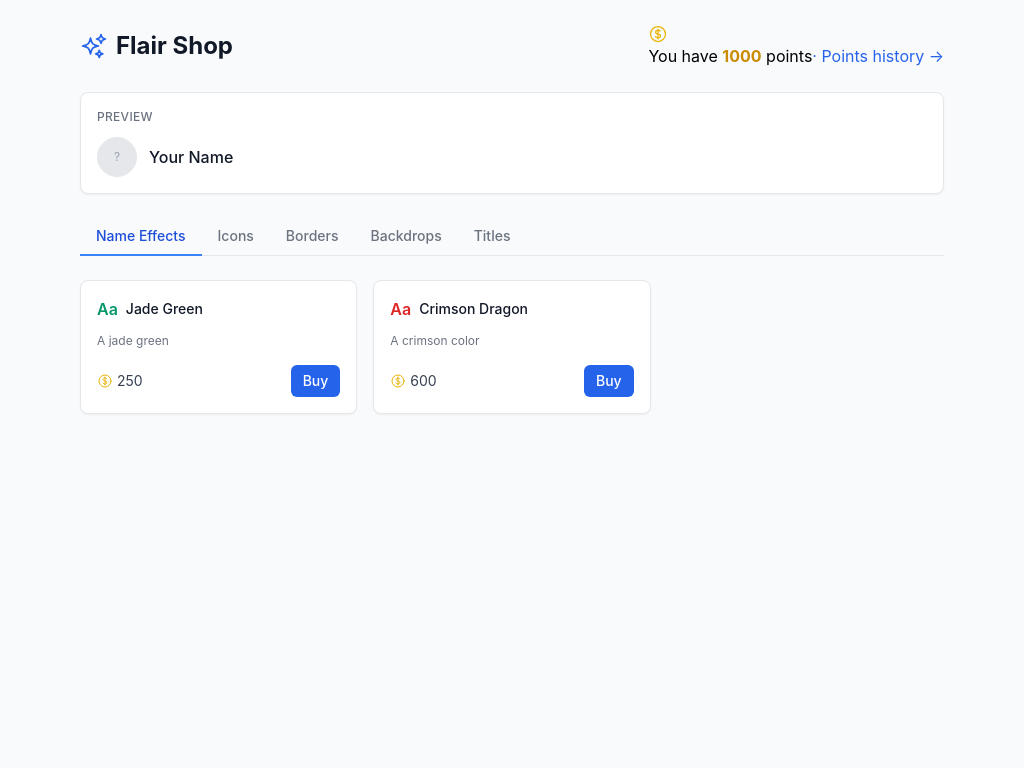
Test: Shop page › purchase flow › Cancel closes the confirmation without purchasing
Step 1. Click the button "Buy" next to "250" → {"x": 316, "y": 381}, box [291, 365, 340, 397]
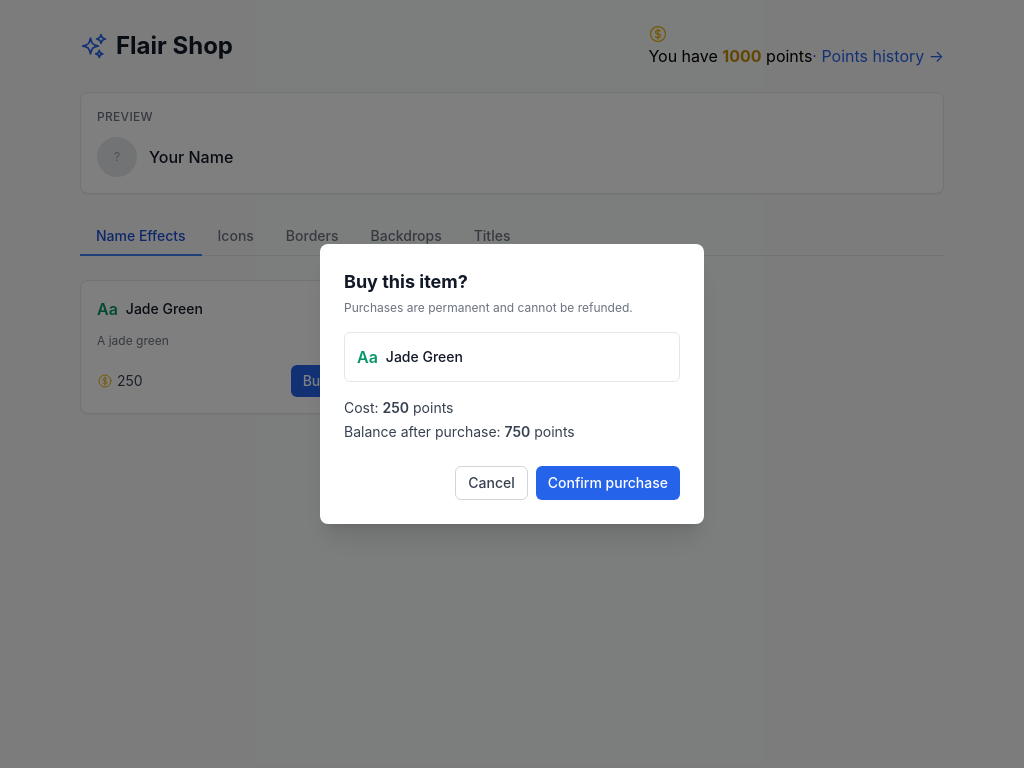
Step 2. Click the button "Cancel" → {"x": 492, "y": 483}, box [455, 466, 528, 500]
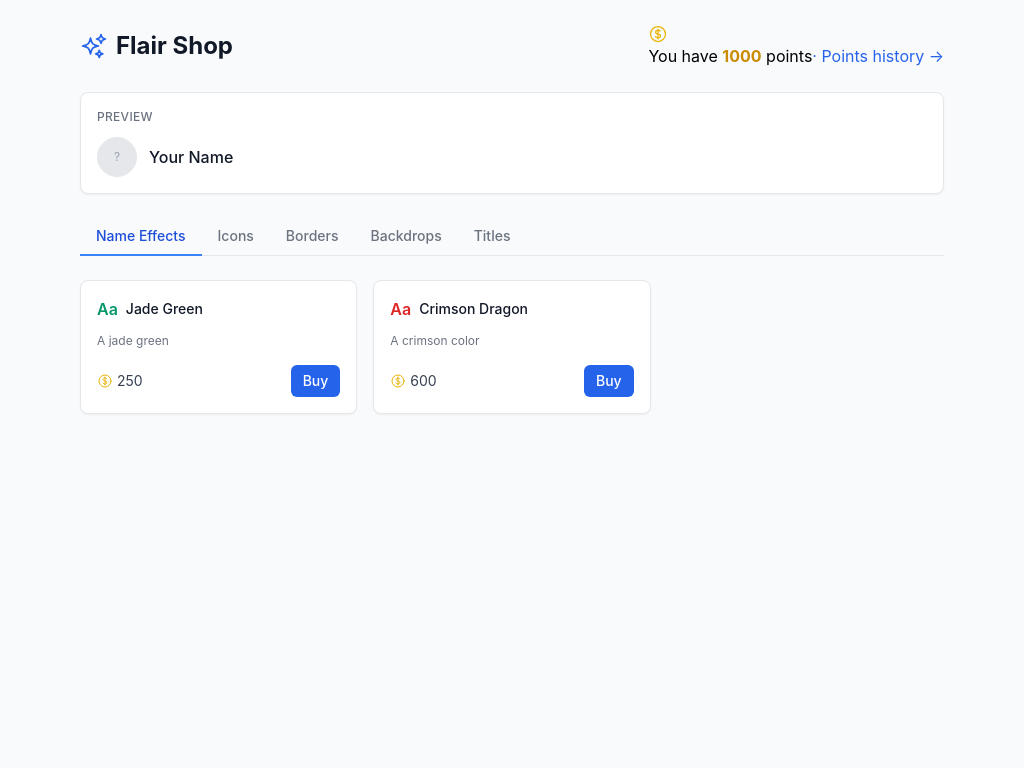
Expected: the dialog is gone
